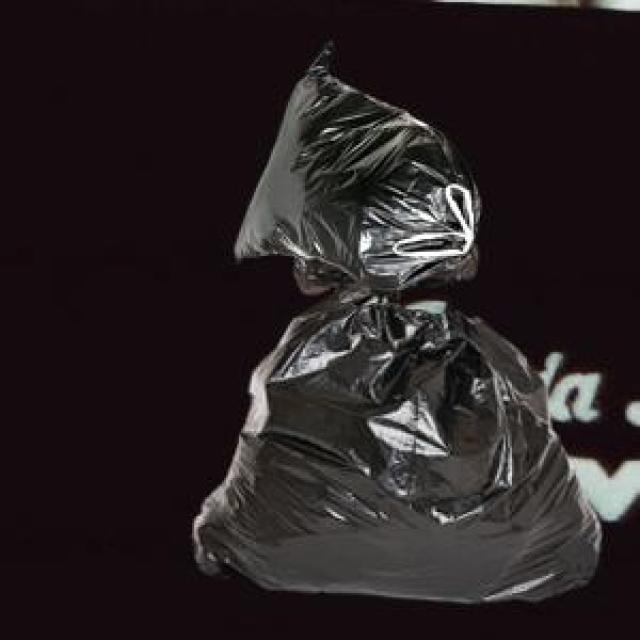Vinyl: (195, 46, 600, 602)
